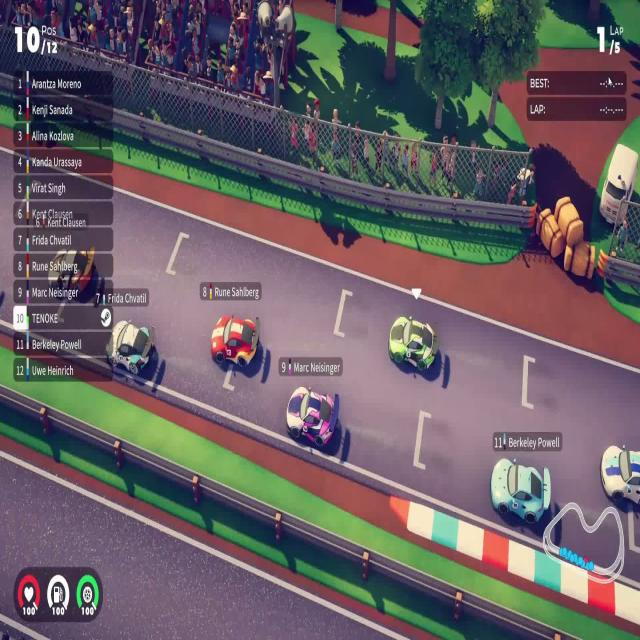car: (489, 456, 552, 526), (285, 384, 340, 449), (104, 318, 156, 378), (210, 312, 260, 369), (388, 314, 437, 372)
